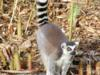cat: (33, 1, 84, 74)
